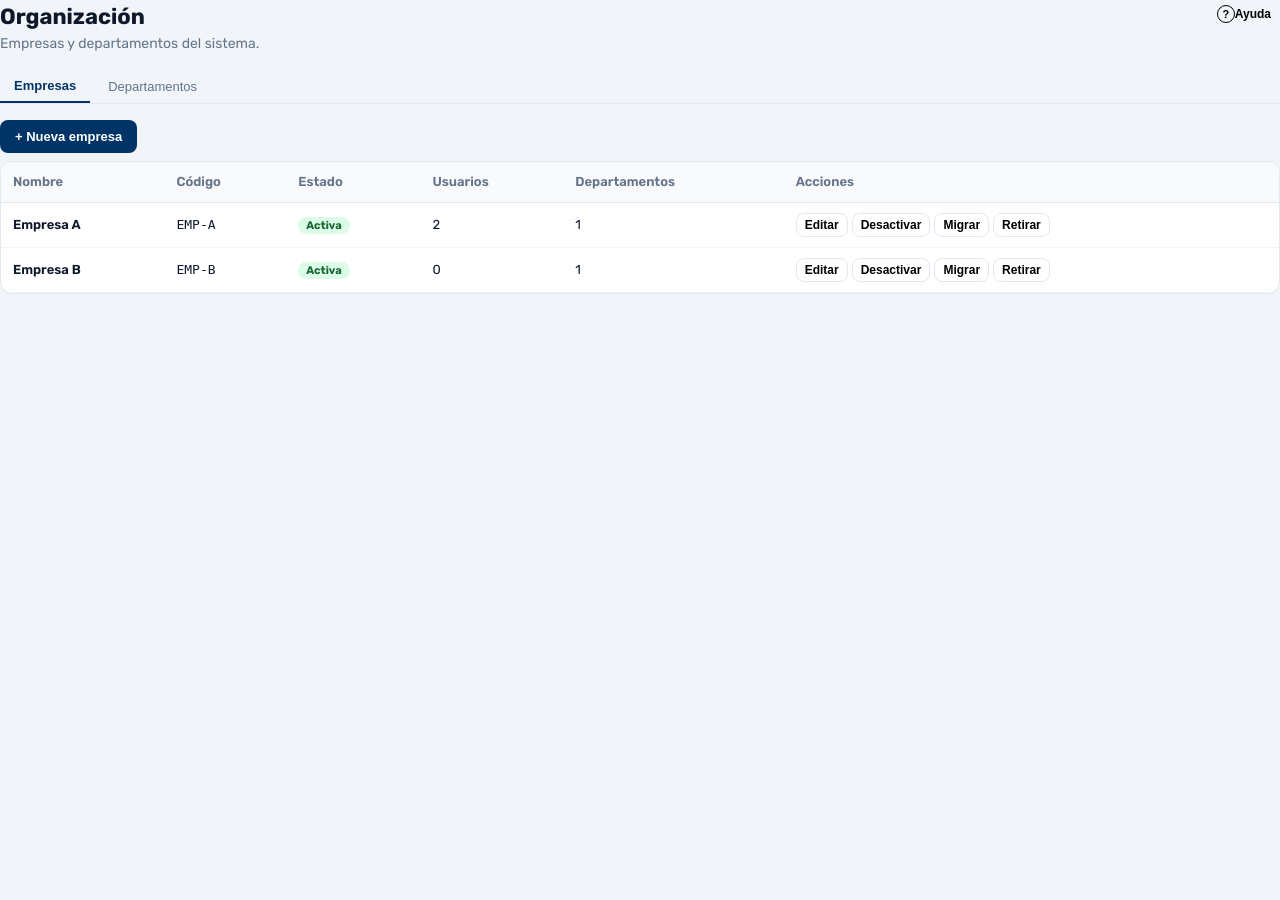
Organización 12I — empresas › editar nombre conserva identidad y recarga
Click the button "Editar" in the row of "Empresa A" at (822, 224), box [796,212,848,236]
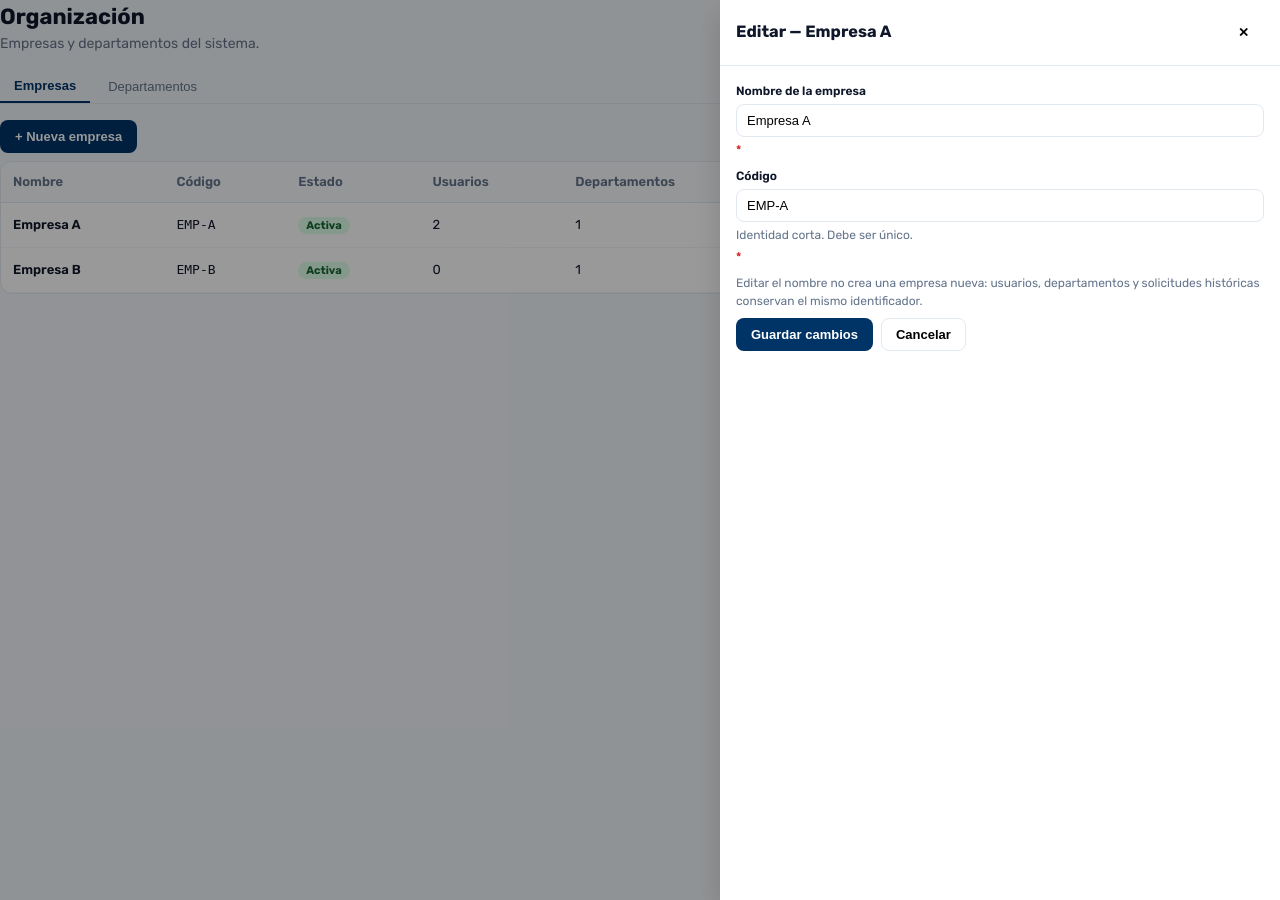
Replace the text in the field labelled "Nombre de la empresa" with "Distribuidora Central" at (1000, 120), box [736,104,1264,137]
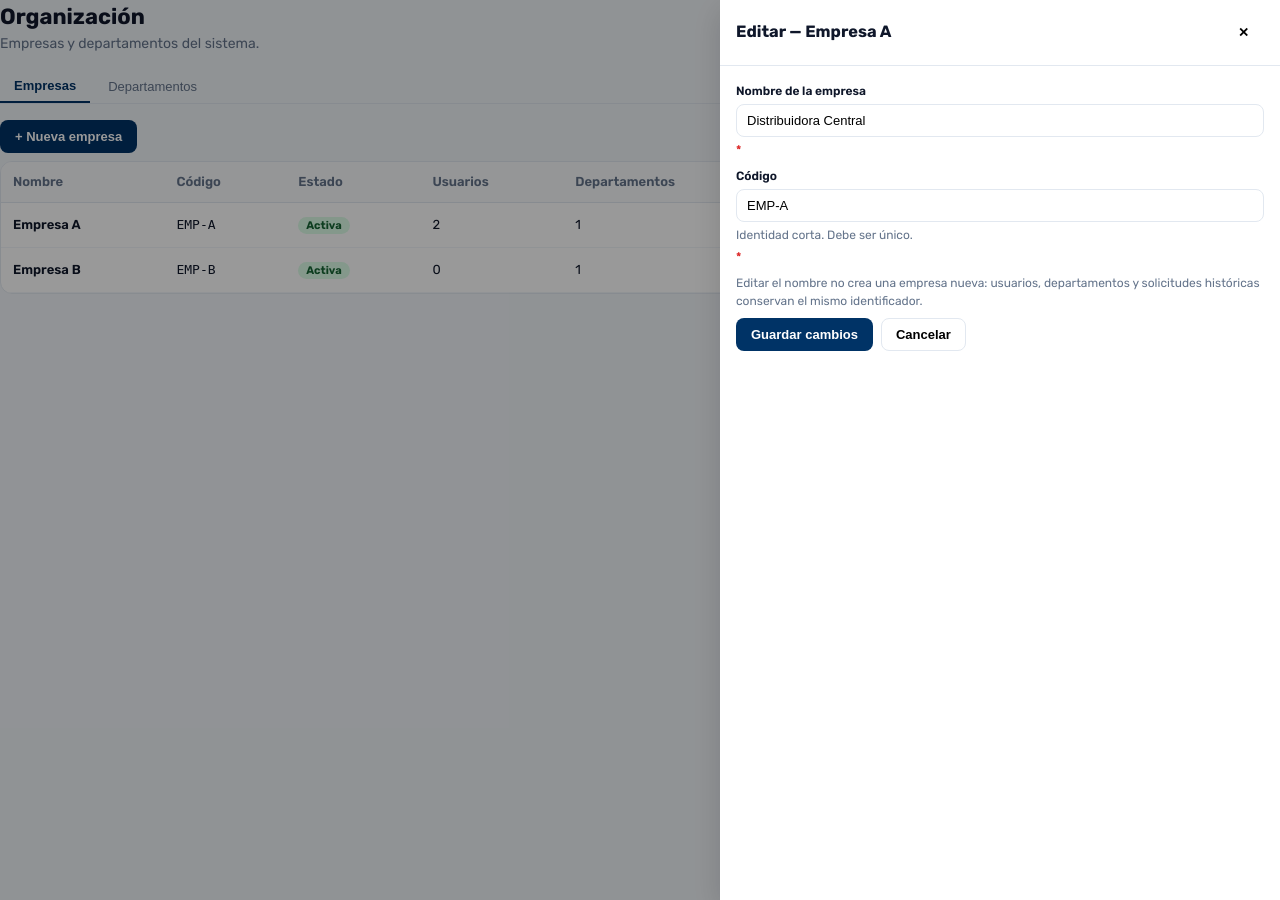
Click the button "Guardar cambios" at (804, 334), box [736,318,873,351]
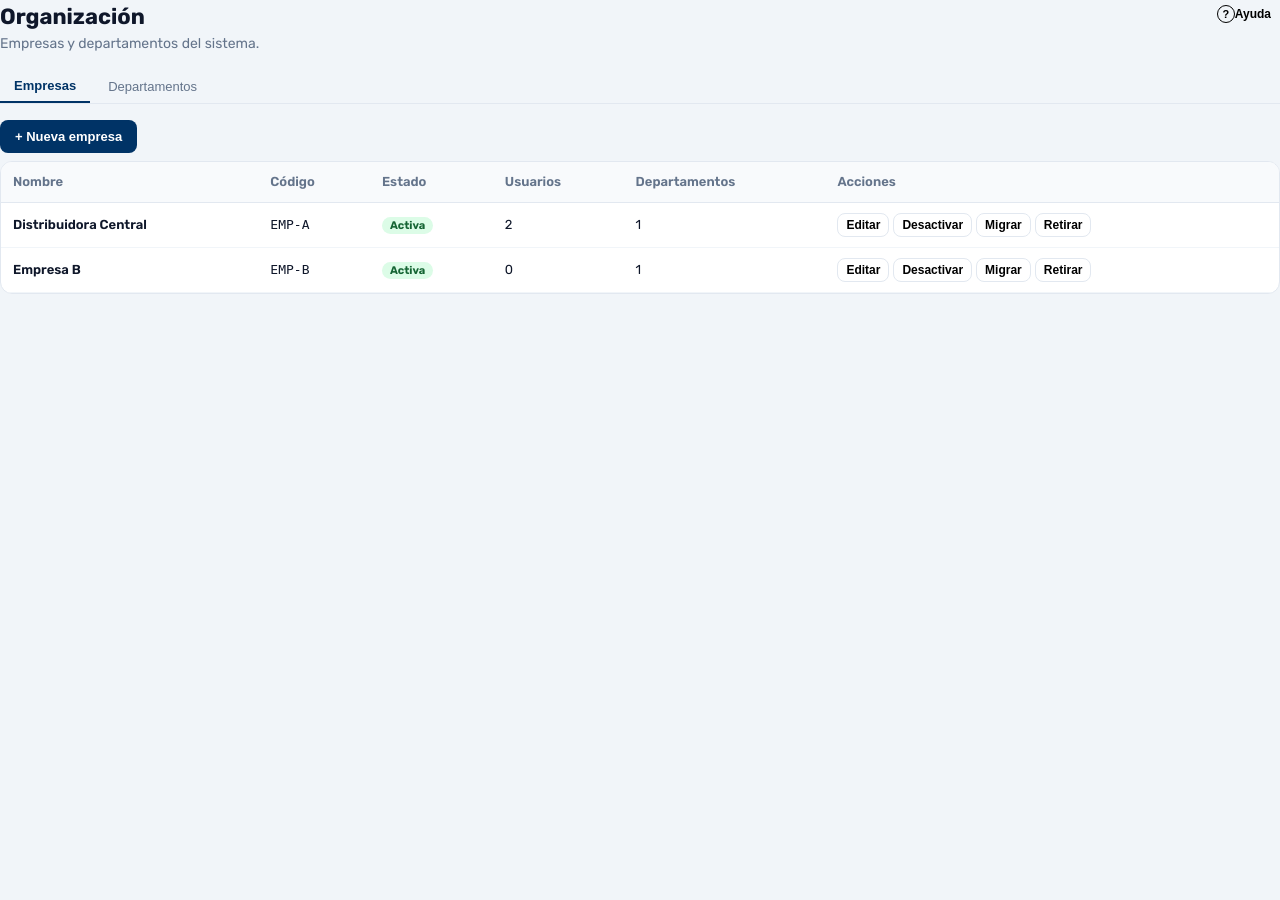
Check: the text "Distribuidora Central" is shown, box [1,202,258,247]
